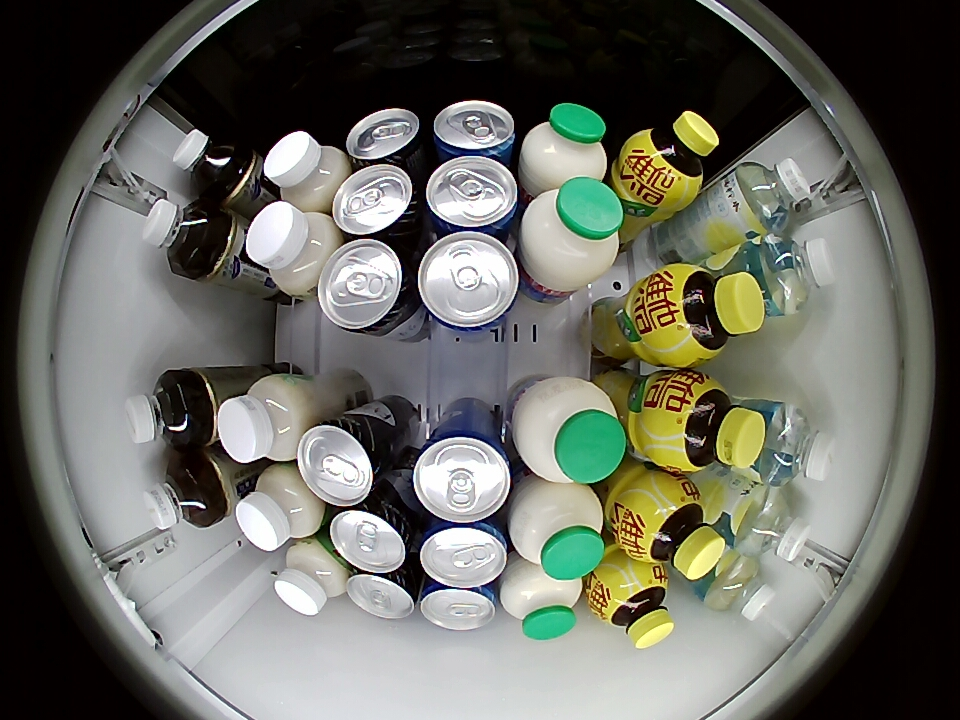liziyuan: (512, 377, 627, 484), (519, 177, 624, 291), (509, 474, 606, 580), (519, 102, 609, 190), (500, 556, 581, 641)
qingdaowangzi-1: (318, 238, 418, 336), (297, 416, 389, 506), (333, 163, 422, 241), (327, 498, 415, 573), (346, 108, 426, 170), (346, 565, 419, 620)
qingdaowangzi-2: (416, 230, 520, 332), (411, 429, 513, 524), (423, 155, 521, 236), (418, 518, 508, 588), (431, 100, 517, 163), (419, 579, 498, 631)
qinningshui: (752, 402, 837, 486), (757, 235, 837, 314), (731, 157, 813, 233), (731, 486, 811, 563), (701, 552, 776, 621)
weitaningmeng-bottle: (651, 371, 766, 474), (653, 264, 766, 366), (623, 478, 728, 581), (626, 110, 719, 200), (593, 567, 675, 650)
wulongcha: (124, 371, 199, 449), (142, 197, 216, 275), (143, 456, 218, 530), (172, 128, 242, 196)
yousuanru: (246, 201, 339, 296), (218, 373, 313, 463), (235, 464, 323, 551), (265, 131, 349, 212), (274, 538, 347, 615)
